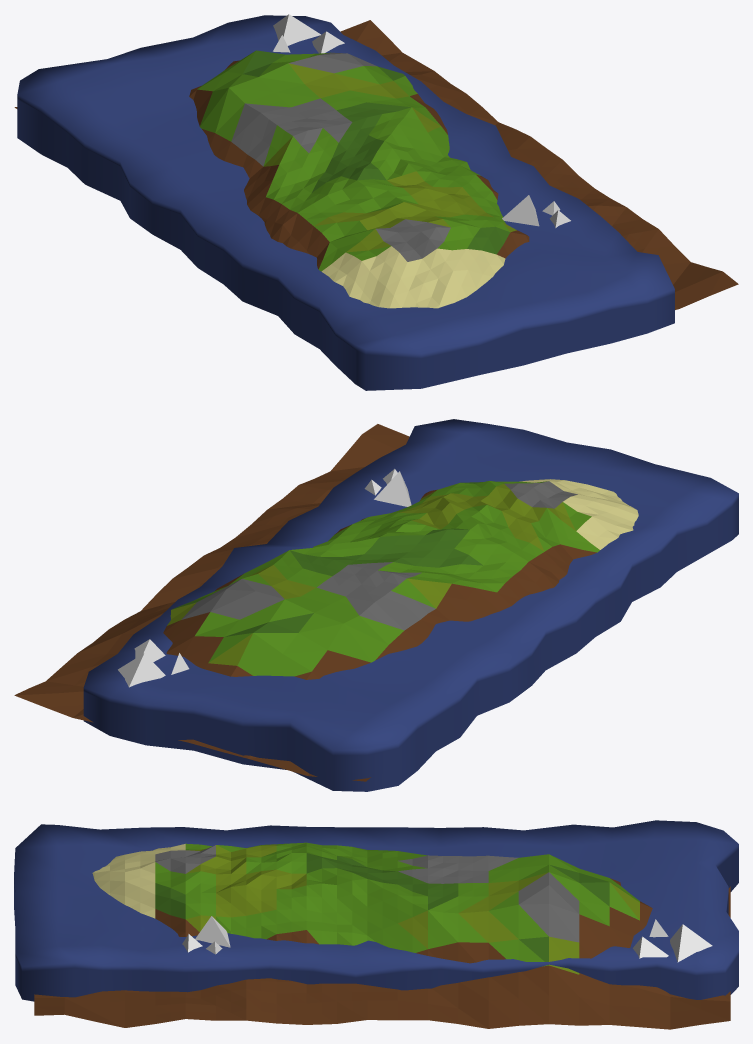
Rendered from TD_PirateCove_Island_Prototype.fbx.
The picture shows the model from 3 angles, top to bottom: view 1: azimuth 30°, elevation 25°; view 2: azimuth 150°, elevation 25°; view 3: azimuth 270°, elevation 25°; orthographic projection. The views are drawn at different scales.
Visible parts, largest first — view 1: PirateCove_Water, PirateCove_Island_Prototype, IslandRocks.011, IslandRocks.010; view 2: PirateCove_Water, PirateCove_Island_Prototype, IslandRocks.011, IslandRocks.010; view 3: PirateCove_Island_Prototype, PirateCove_Water, IslandRocks.011, IslandRocks.010, IslandRocks.012.
Boxes of the visible parts, left/top/right/bottom form: PirateCove_Water: left=17, top=15, right=674, bottom=390; PirateCove_Island_Prototype: left=14, top=20, right=738, bottom=309; IslandRocks.011: left=273, top=14, right=320, bottom=45; IslandRocks.010: left=502, top=195, right=539, bottom=226; PirateCove_Water: left=83, top=419, right=738, bottom=791; PirateCove_Island_Prototype: left=14, top=424, right=638, bottom=781; IslandRocks.011: left=118, top=653, right=165, bottom=687; IslandRocks.010: left=374, top=471, right=411, bottom=506; PirateCove_Island_Prototype: left=34, top=842, right=730, bottom=1029; PirateCove_Water: left=14, top=820, right=738, bottom=1001; IslandRocks.011: left=670, top=924, right=712, bottom=962; IslandRocks.010: left=195, top=916, right=230, bottom=947; IslandRocks.012: left=633, top=936, right=668, bottom=958.
Size of the model in its own units: 133 by 30.01 by 239.
